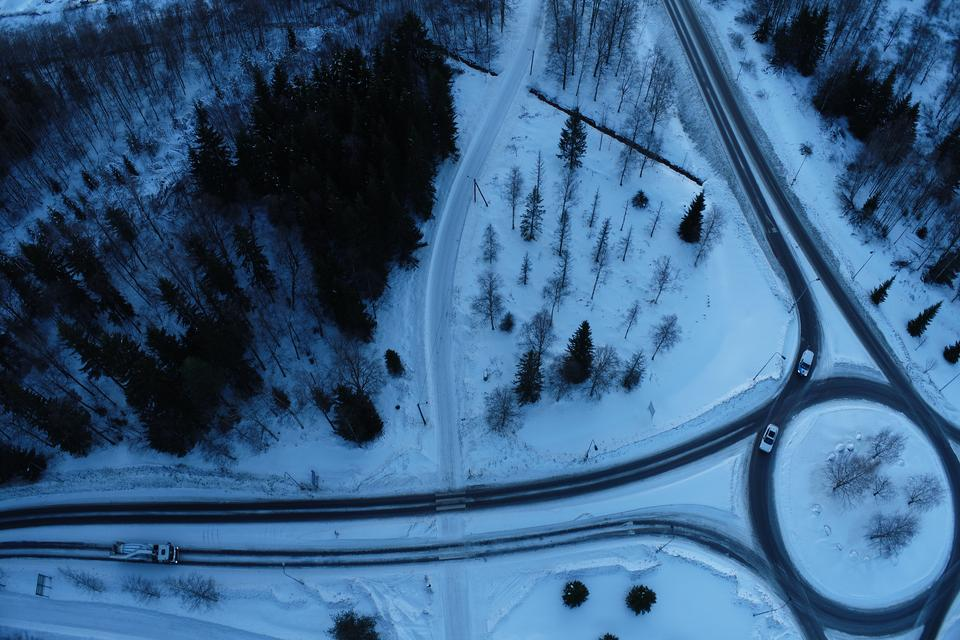intersection: (423, 479, 478, 572)
roundabout: (722, 347, 960, 640)
